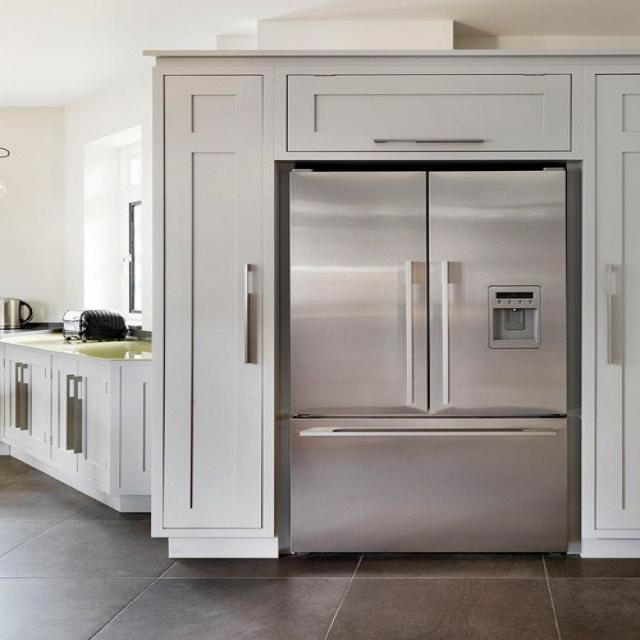obstacle: (275, 163, 575, 555), (1, 330, 152, 512)
